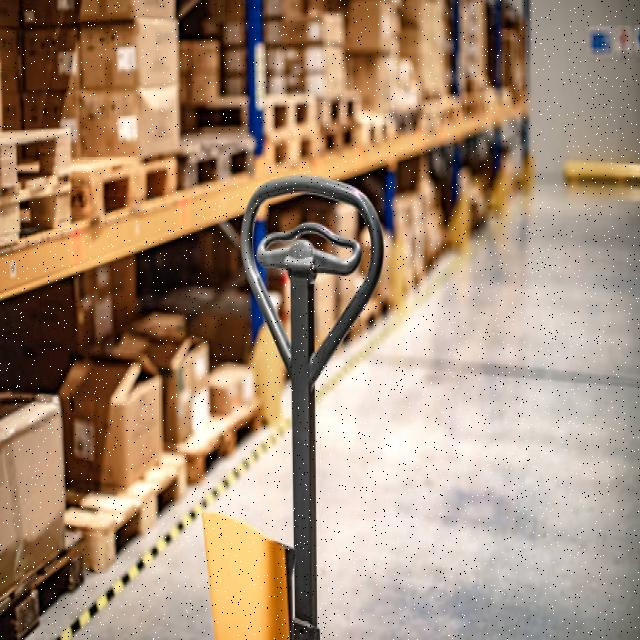Wooden-Pallets: (90, 438, 189, 583), (79, 150, 180, 241), (178, 136, 265, 201)
